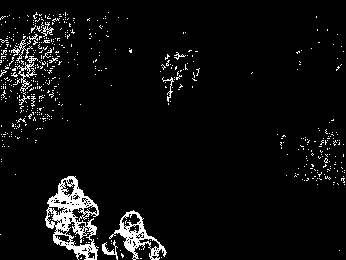person: (44, 174, 99, 259), (99, 210, 167, 260)
